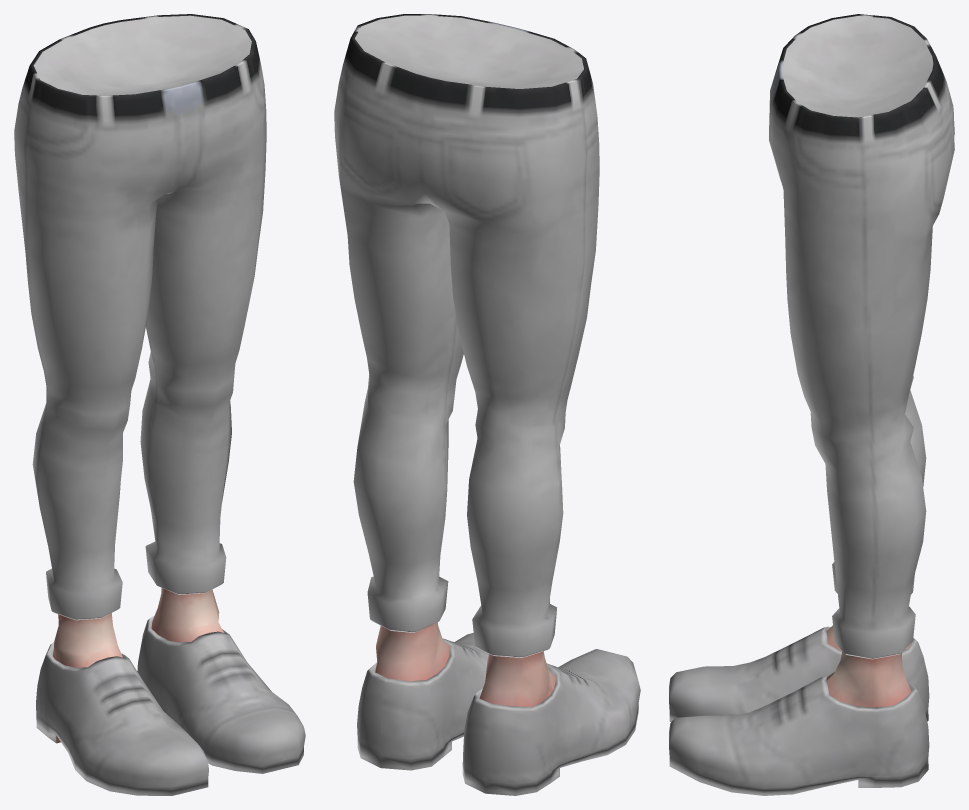
Rendered from tr0860_00_lwb00.gltf.
3 renders of one model, left to right at view 1: azimuth 30°, elevation 25°; view 2: azimuth 150°, elevation 25°; view 3: azimuth 270°, elevation 25°, orthographic. The views are drawn at different scales.
Visible parts, largest first — view 1: lwb00_lowerbody_mesh_shape:lowerbody00, lwb00_shoes_mesh_shape:lowerbody00, lwb00_lowerbodyskin_mesh_shape:lowerbody00_skin; view 2: lwb00_lowerbody_mesh_shape:lowerbody00, lwb00_shoes_mesh_shape:lowerbody00, lwb00_lowerbodyskin_mesh_shape:lowerbody00_skin; view 3: lwb00_lowerbody_mesh_shape:lowerbody00, lwb00_shoes_mesh_shape:lowerbody00, lwb00_lowerbodyskin_mesh_shape:lowerbody00_skin.
Part boxes in pixels (x1,y1,x2,y2): lwb00_lowerbody_mesh_shape:lowerbody00: (14,14,266,620); lwb00_shoes_mesh_shape:lowerbody00: (36,615,305,795); lwb00_lowerbodyskin_mesh_shape:lowerbody00_skin: (53,588,223,667); lwb00_lowerbody_mesh_shape:lowerbody00: (334,14,599,657); lwb00_shoes_mesh_shape:lowerbody00: (357,633,640,795); lwb00_lowerbodyskin_mesh_shape:lowerbody00_skin: (375,622,555,706); lwb00_lowerbody_mesh_shape:lowerbody00: (769,14,954,659); lwb00_shoes_mesh_shape:lowerbody00: (669,626,929,795); lwb00_lowerbodyskin_mesh_shape:lowerbody00_skin: (826,625,911,707).
Size of what is drawn, in the model's own units: 0.3347 by 0.9337 by 0.3547.
2 materials, 2 textured.
